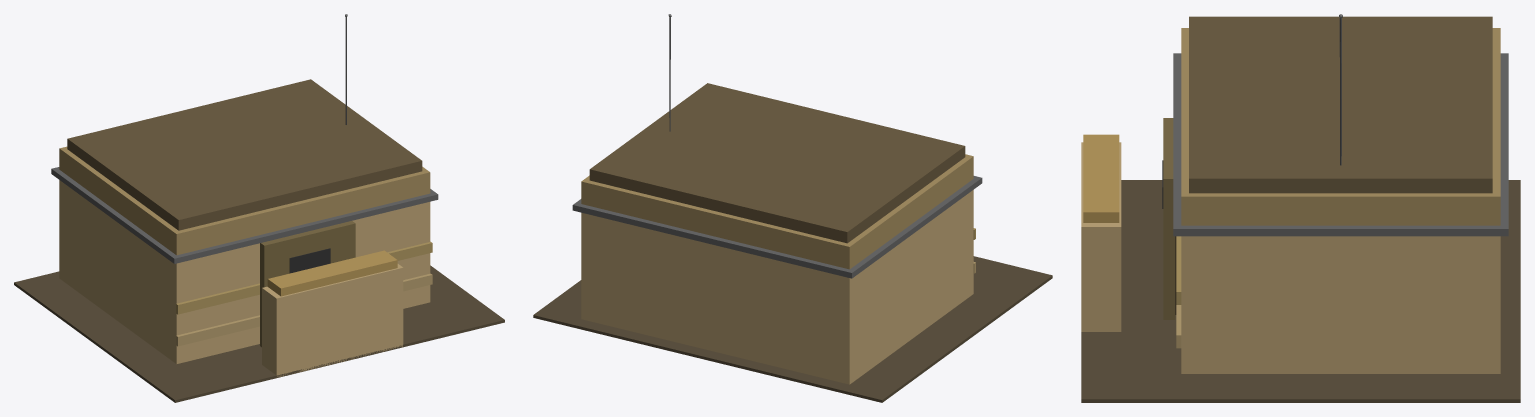
Rendered from toc-bunker.glb.
3 renders of one model, left to right at view 1: azimuth 30°, elevation 25°; view 2: azimuth 150°, elevation 25°; view 3: azimuth 270°, elevation 25°, orthographic. The views are drawn at different scales.
Parts seen in each view (by area): view 1: Mesh_RoofDirt, Mesh_BunkerBody, Mesh_GroundPad, Mesh_BlastWall, Mesh_RoofSandbags, Mesh_RoofPSP, Mesh_EntranceFrame, Mesh_BlastWallTop, Mesh_SandbagRowFront2, Mesh_SandbagRowFront, Mesh_Stencil; view 2: Mesh_BunkerBody, Mesh_RoofDirt, Mesh_GroundPad, Mesh_RoofSandbags, Mesh_RoofPSP; view 3: Mesh_RoofDirt, Mesh_BunkerBody, Mesh_GroundPad, Mesh_RoofSandbags, Mesh_RoofPSP, Mesh_BlastWall, Mesh_BlastWallTop, Mesh_EntranceFrame, Mesh_SandbagRowFront2.
Boxes of the visible parts, bbox=[...] form: Mesh_RoofDirt: bbox=[67, 79, 422, 230]; Mesh_BunkerBody: bbox=[59, 180, 430, 364]; Mesh_GroundPad: bbox=[14, 265, 504, 402]; Mesh_BlastWall: bbox=[262, 264, 403, 376]; Mesh_RoofSandbags: bbox=[59, 146, 430, 255]; Mesh_RoofPSP: bbox=[51, 167, 438, 263]; Mesh_EntranceFrame: bbox=[260, 221, 355, 347]; Mesh_BlastWallTop: bbox=[267, 250, 397, 296]; Mesh_SandbagRowFront2: bbox=[176, 241, 432, 314]; Mesh_SandbagRowFront: bbox=[176, 273, 432, 346]; Mesh_Stencil: bbox=[289, 248, 330, 273]; Mesh_BunkerBody: bbox=[581, 190, 973, 384]; Mesh_RoofDirt: bbox=[589, 83, 965, 243]; Mesh_GroundPad: bbox=[533, 256, 1052, 402]; Mesh_RoofSandbags: bbox=[581, 154, 973, 269]; Mesh_RoofPSP: bbox=[572, 176, 982, 278]; Mesh_RoofDirt: bbox=[1189, 16, 1492, 193]; Mesh_BunkerBody: bbox=[1181, 236, 1500, 373]; Mesh_GroundPad: bbox=[1081, 180, 1520, 402]; Mesh_RoofSandbags: bbox=[1181, 28, 1500, 225]; Mesh_RoofPSP: bbox=[1173, 53, 1508, 236]; Mesh_BlastWall: bbox=[1081, 142, 1121, 331]; Mesh_BlastWallTop: bbox=[1083, 134, 1119, 222]; Mesh_EntranceFrame: bbox=[1163, 118, 1175, 319]; Mesh_SandbagRowFront2: bbox=[1176, 236, 1181, 304].
Bounding box in the file's own units: 6.5 × 4.79 × 5.5.
